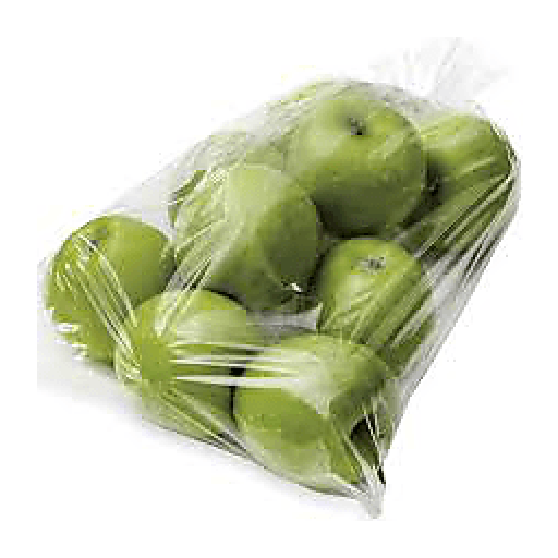apple: (286, 97, 433, 246)
